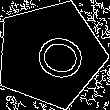O_W: (17, 24, 83, 84)
